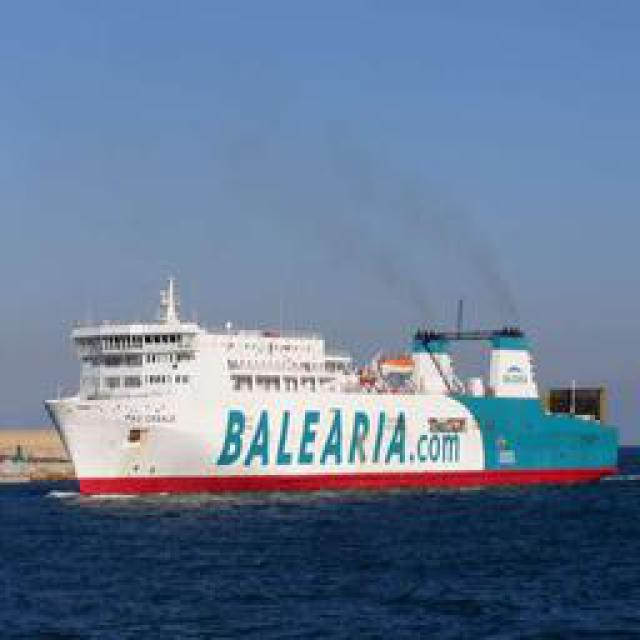Ship: (50, 275, 618, 498)
